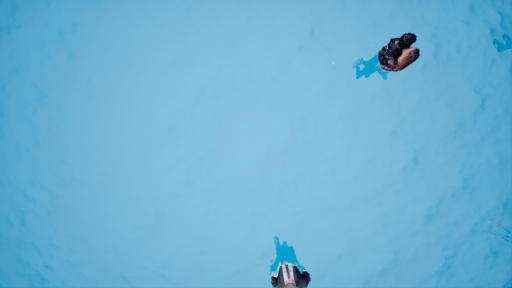person: (351, 25, 420, 84), (260, 234, 319, 288)
